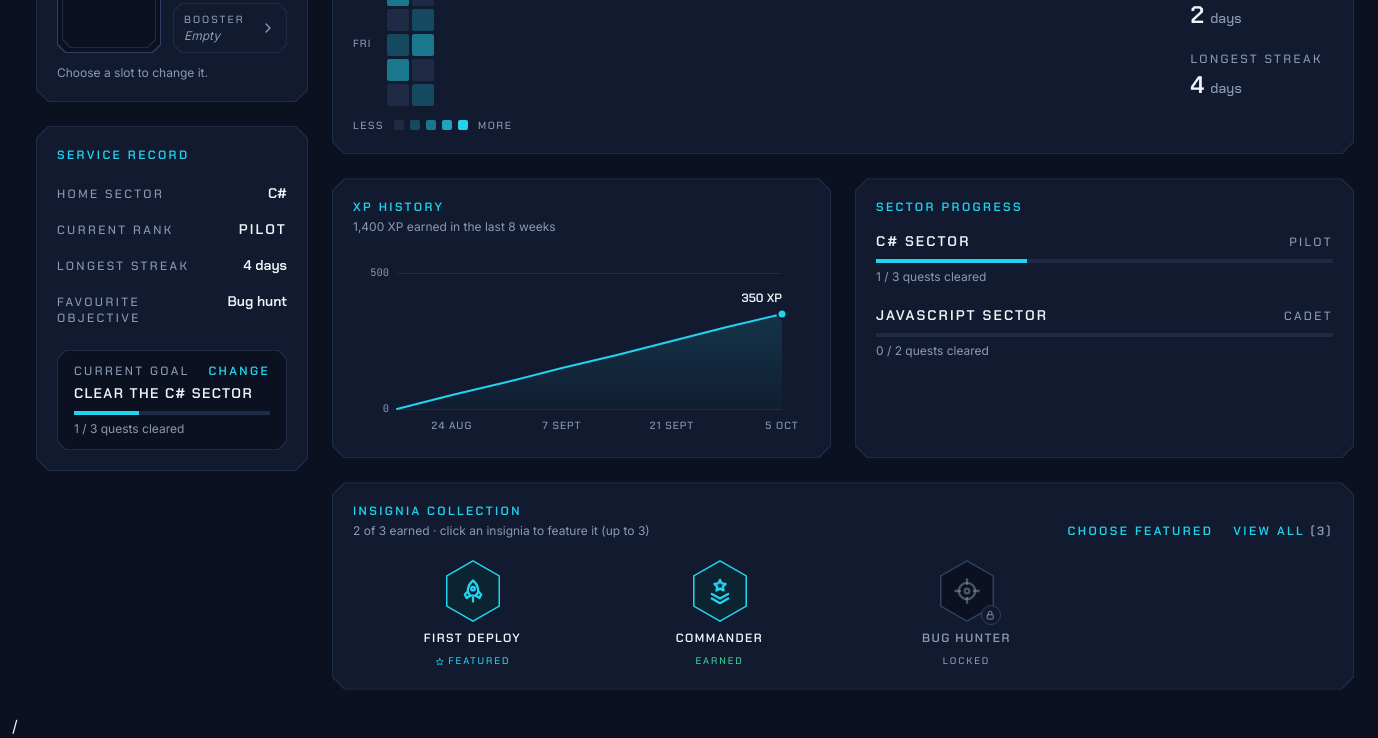
Test: ProfilePage › clicking an earned insignia features it and shows it in the header
This screenshot has width=1378, height=738.
(page scrolled)
Click the button "Commander Earned": click(720, 614) [600,559,839,669]
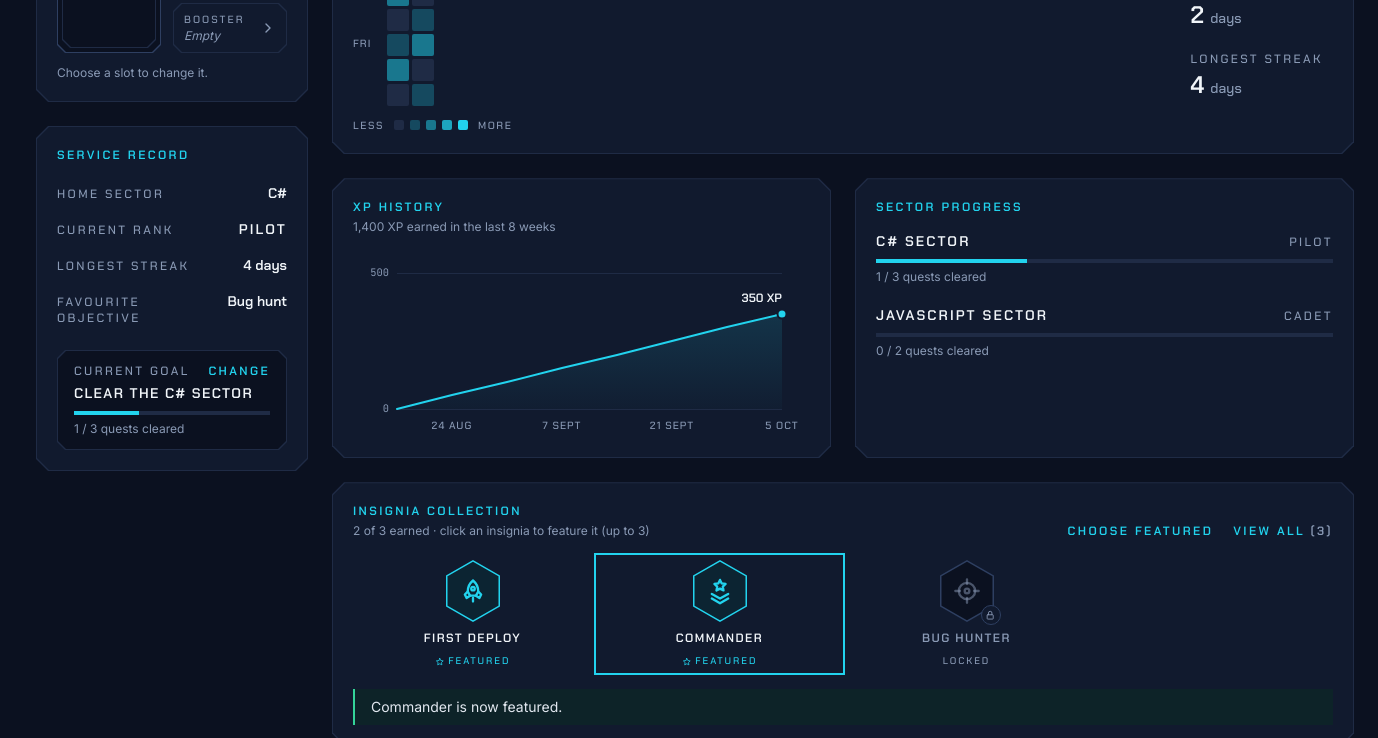
Expected: the message reads "Commander is now featured.", [371,698,562,715]
